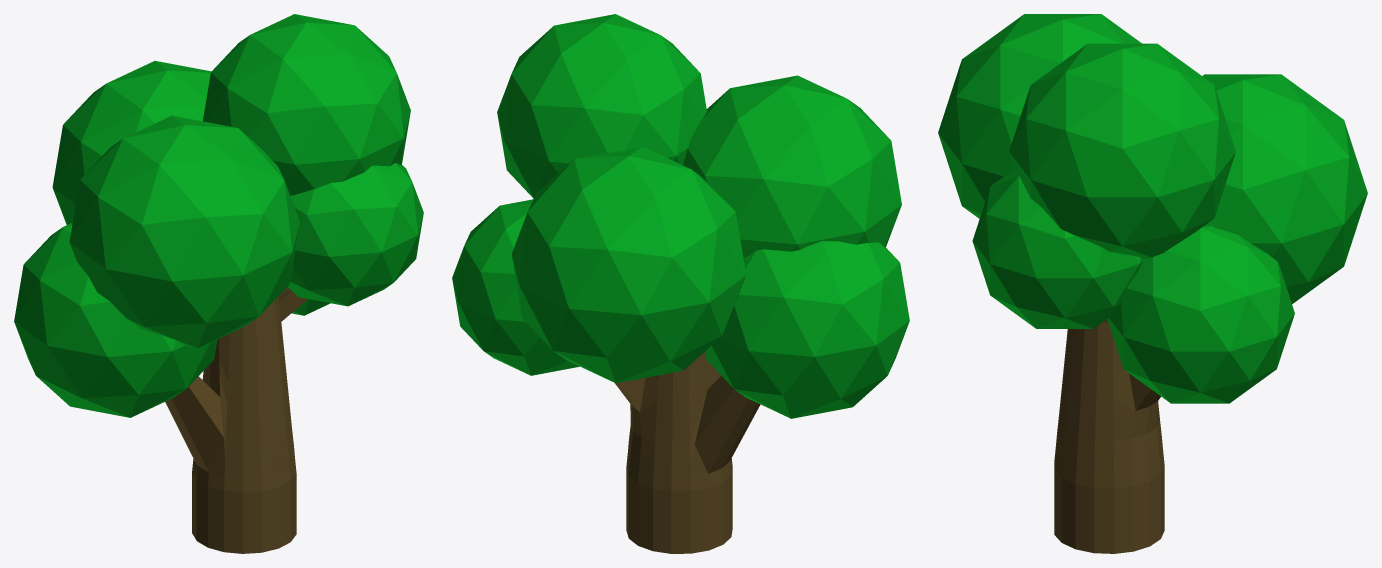
Rendered from smallTree.glb.
The picture shows the model from 3 angles, left to right: view 1: azimuth 30°, elevation 25°; view 2: azimuth 150°, elevation 25°; view 3: azimuth 270°, elevation 25°; orthographic projection. The views are drawn at different scales.
Parts seen in each view (by area): view 1: Icosphere.009; view 2: Icosphere.009; view 3: Icosphere.009.
Boxes of the visible parts, x1=… form: Icosphere.009: x1=14, y1=14, x2=423, y2=553; Icosphere.009: x1=452, y1=14, x2=909, y2=553; Icosphere.009: x1=938, y1=14, x2=1367, y2=553.
Size of the model in its own units: 2.95 by 3.64 by 2.74.
